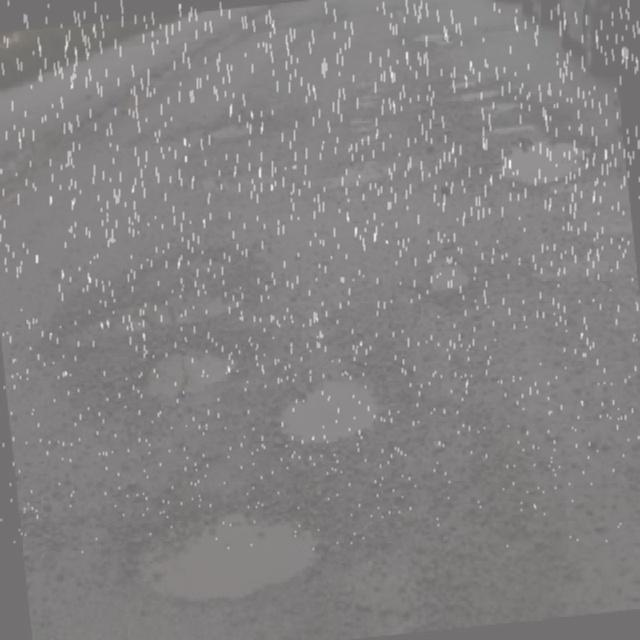Pothole: (108, 476, 325, 623), (458, 62, 593, 190), (271, 362, 404, 443), (311, 99, 405, 190), (139, 328, 229, 400), (400, 229, 484, 304), (212, 106, 256, 150)
